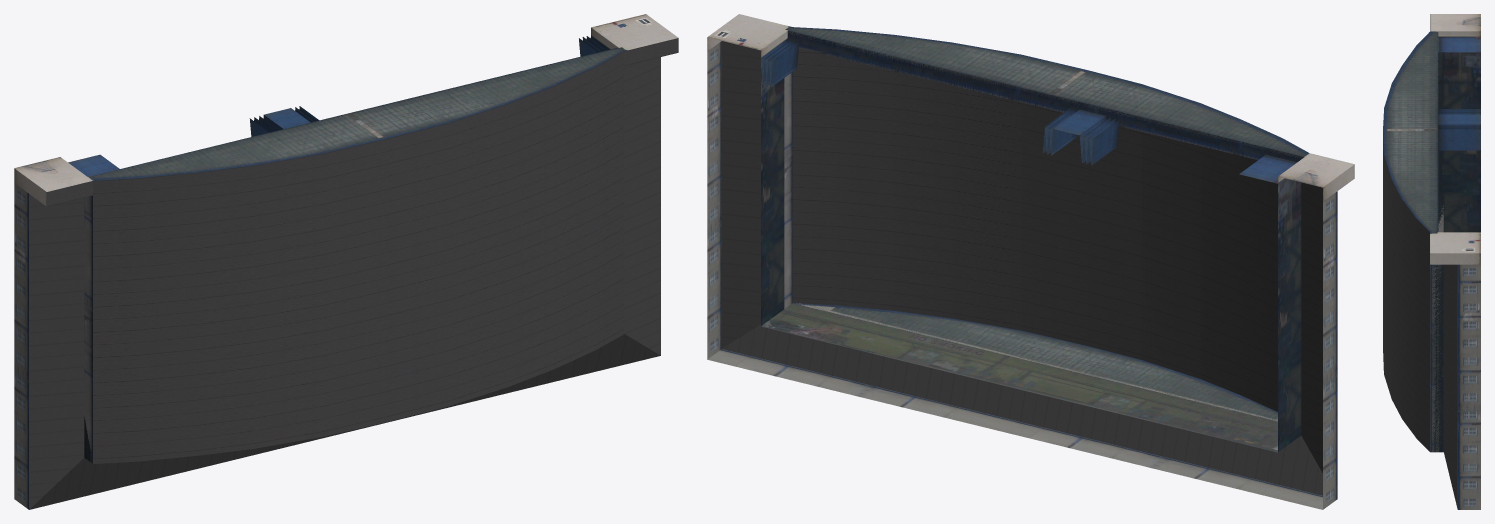
Rendered from DEMO_Hangar.OBJ.
The picture shows the model from 3 angles, left to right: view 1: azimuth 30°, elevation 25°; view 2: azimuth 150°, elevation 25°; view 3: azimuth 270°, elevation 25°; orthographic projection. The views are drawn at different scales.
Parts seen in each view (by area): view 1: part_1_LOD_100, part_2_LOD_100, part_0_LOD_100; view 2: part_1_LOD_100, part_2_LOD_100, part_0_LOD_100; view 3: part_2_LOD_100, part_1_LOD_100, part_0_LOD_100.
Part boxes in pixels (bbox=[...]): part_1_LOD_100: bbox=[29, 38, 678, 509]; part_2_LOD_100: bbox=[14, 14, 678, 509]; part_0_LOD_100: bbox=[68, 36, 609, 176]; part_1_LOD_100: bbox=[721, 41, 1322, 495]; part_2_LOD_100: bbox=[707, 14, 1354, 509]; part_0_LOD_100: bbox=[761, 39, 1296, 183]; part_2_LOD_100: bbox=[1383, 14, 1480, 509]; part_1_LOD_100: bbox=[1383, 133, 1457, 508]; part_0_LOD_100: bbox=[1438, 37, 1480, 150].
Size of the model in its own units: 105 by 52.42 by 18.13.
3 materials, 3 textured.
